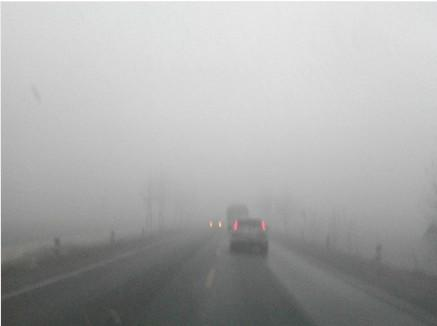bus: (225, 203, 250, 232)
car: (229, 217, 270, 255), (208, 216, 224, 231)
